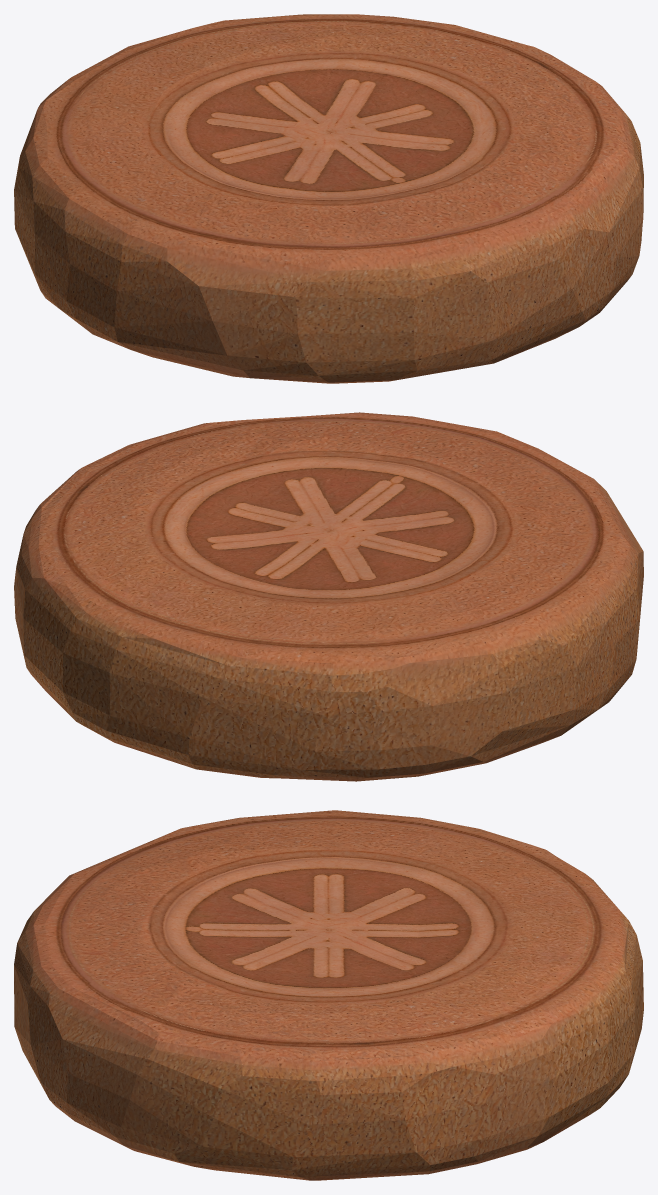
File: Platform.fbx
The picture shows the model from 3 angles, top to bottom: view 1: azimuth 30°, elevation 25°; view 2: azimuth 150°, elevation 25°; view 3: azimuth 270°, elevation 25°; orthographic projection.
Visible parts, largest first — view 1: Platform; view 2: Platform; view 3: Platform.
Part boxes in pixels (<box>): Platform: <box>14,14,643,383</box>; Platform: <box>14,412,643,781</box>; Platform: <box>14,810,643,1180</box>.
Size of the model in its own units: 53.97 by 13.53 by 53.98.
